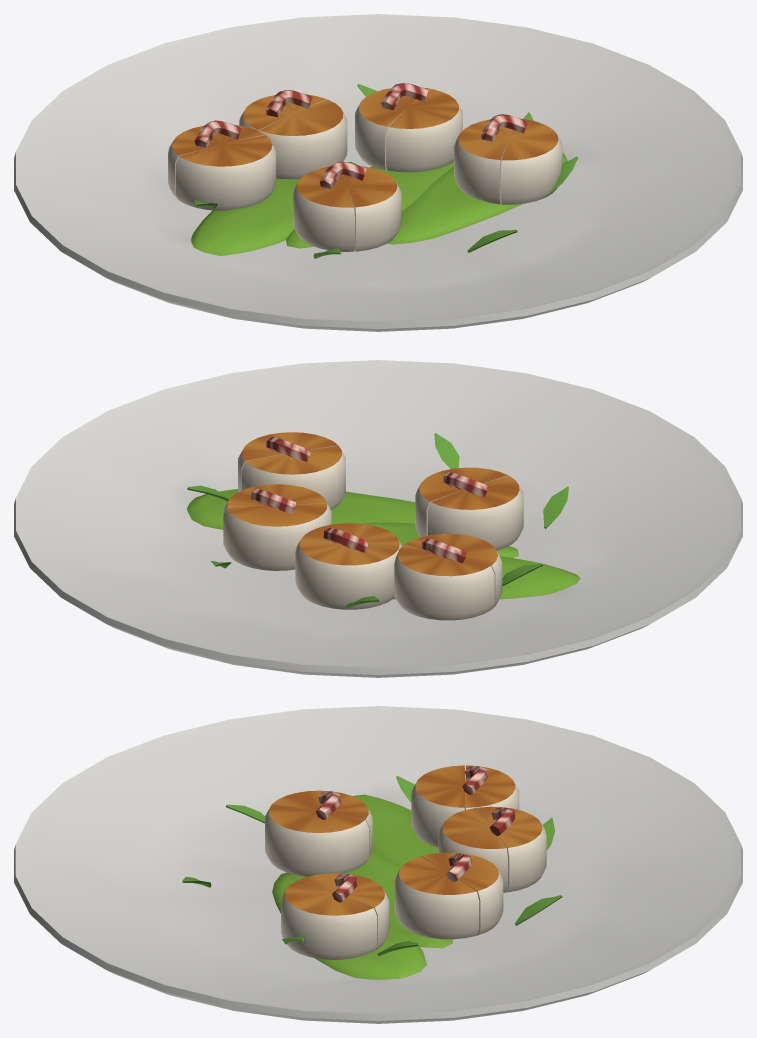
Rendered from dish-scallops-lod1.glb.
The picture shows the model from 3 angles, top to bottom: view 1: azimuth 30°, elevation 25°; view 2: azimuth 150°, elevation 25°; view 3: azimuth 270°, elevation 25°; orthographic projection.
Visible parts, largest first — view 1: scallops.lod1__table porcelain, scallops.lod1__food, scallops.lod1__food glaze; view 2: scallops.lod1__table porcelain, scallops.lod1__food, scallops.lod1__food glaze; view 3: scallops.lod1__table porcelain, scallops.lod1__food, scallops.lod1__food glaze.
Boxes of the visible parts, x1,y1,x2,y2 form: scallops.lod1__table porcelain: [14, 14, 742, 331]; scallops.lod1__food: [168, 83, 577, 258]; scallops.lod1__food glaze: [191, 153, 567, 255]; scallops.lod1__table porcelain: [14, 360, 742, 677]; scallops.lod1__food: [187, 432, 568, 620]; scallops.lod1__food glaze: [187, 489, 580, 599]; scallops.lod1__table porcelain: [14, 706, 742, 1023]; scallops.lod1__food: [182, 765, 562, 959]; scallops.lod1__food glaze: [272, 794, 452, 979].
Size of the model in its own units: 0.27 by 0.0385 by 0.2685.
